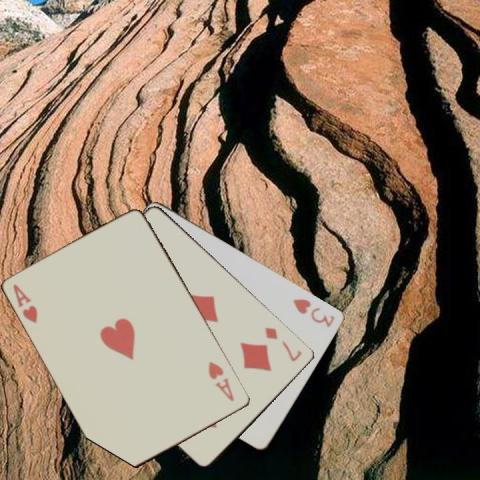3h: (290, 295, 337, 329)
7d: (262, 324, 303, 363)
Ah: (205, 358, 236, 403), (10, 281, 39, 324)
